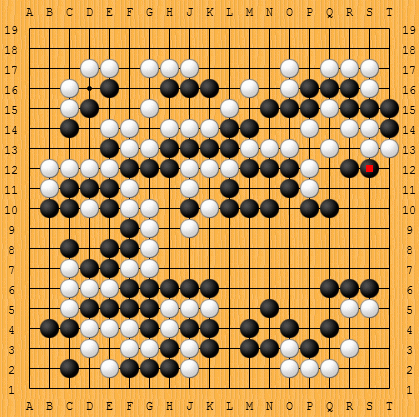black: (277, 317, 299, 339), (358, 157, 380, 179), (58, 317, 80, 339), (58, 177, 80, 199), (58, 197, 80, 219), (198, 277, 220, 299), (58, 237, 80, 259), (78, 177, 100, 199), (218, 197, 240, 219), (198, 337, 220, 359), (218, 177, 240, 199), (58, 357, 80, 379), (78, 297, 100, 319), (238, 117, 260, 139), (118, 157, 140, 179), (198, 77, 220, 99), (277, 97, 299, 119), (198, 317, 220, 339), (38, 197, 60, 219), (198, 137, 220, 159), (38, 317, 60, 339), (118, 277, 140, 299), (158, 157, 180, 179), (158, 137, 180, 159), (98, 237, 120, 259), (338, 277, 360, 299), (78, 257, 100, 279), (98, 297, 120, 319), (158, 77, 180, 99), (358, 277, 380, 299), (318, 277, 340, 299), (298, 197, 320, 219), (318, 317, 340, 339), (318, 197, 340, 219), (218, 137, 240, 159), (377, 117, 399, 139), (298, 337, 320, 359), (177, 317, 199, 339), (78, 97, 100, 119), (178, 197, 200, 219), (138, 356, 160, 378), (338, 97, 360, 119), (158, 357, 180, 379), (158, 337, 180, 359), (298, 77, 320, 99), (377, 97, 399, 119), (158, 277, 180, 299), (278, 157, 300, 179), (178, 137, 200, 159), (138, 277, 160, 299), (138, 297, 160, 319), (358, 97, 380, 119), (218, 117, 240, 139), (138, 156, 160, 178), (118, 357, 140, 379), (58, 117, 80, 139), (118, 297, 140, 319), (98, 177, 120, 199), (137, 317, 159, 339), (118, 237, 140, 259), (118, 217, 140, 239), (258, 97, 280, 119), (98, 257, 120, 279), (338, 156, 360, 178), (238, 156, 260, 178), (258, 197, 280, 219), (258, 297, 280, 319), (98, 77, 120, 99), (258, 157, 280, 179), (98, 137, 120, 159), (178, 77, 200, 99), (258, 337, 280, 359), (278, 177, 300, 199), (238, 197, 260, 219), (178, 277, 200, 299), (318, 77, 340, 99), (237, 317, 259, 339), (238, 337, 260, 359), (337, 77, 359, 99), (298, 97, 320, 119), (98, 197, 120, 219)
white: (59, 258, 77, 276), (59, 278, 77, 296), (59, 298, 77, 316), (359, 138, 377, 156), (199, 298, 217, 316), (79, 338, 97, 356), (79, 198, 97, 216), (319, 138, 337, 156), (159, 298, 177, 316), (79, 278, 97, 296), (199, 198, 217, 216), (79, 318, 97, 336), (359, 58, 377, 76), (239, 78, 257, 96), (199, 118, 217, 136), (139, 58, 157, 76), (279, 138, 297, 156), (199, 158, 217, 176), (39, 178, 57, 196), (239, 138, 257, 156), (319, 58, 337, 76), (119, 118, 137, 136), (119, 178, 137, 196), (279, 58, 297, 76), (59, 158, 77, 176), (319, 98, 337, 116), (159, 58, 177, 76), (159, 118, 177, 136), (119, 138, 137, 156), (299, 178, 317, 196), (39, 158, 57, 176), (79, 158, 97, 176), (179, 338, 197, 356), (179, 358, 197, 376), (179, 298, 197, 316), (79, 58, 97, 76), (99, 278, 117, 296), (179, 218, 197, 236), (139, 218, 157, 236), (179, 178, 197, 196), (339, 58, 357, 76), (339, 298, 357, 316), (279, 78, 297, 96), (339, 118, 357, 136), (299, 118, 317, 136), (379, 138, 397, 156), (139, 198, 157, 216), (159, 318, 177, 336), (299, 158, 317, 176), (139, 258, 157, 276), (219, 98, 237, 116), (99, 358, 117, 376), (359, 78, 377, 96), (139, 238, 157, 256), (119, 338, 137, 356), (119, 318, 137, 336), (119, 258, 137, 276), (139, 338, 157, 356), (119, 198, 137, 216), (219, 158, 237, 176), (259, 138, 277, 156), (139, 138, 157, 156), (99, 58, 117, 76), (99, 318, 117, 336), (99, 118, 117, 136), (179, 58, 197, 76), (319, 358, 337, 376), (179, 118, 197, 136), (139, 98, 157, 116), (279, 358, 297, 376), (279, 338, 297, 356), (339, 338, 357, 356), (359, 298, 377, 316), (359, 118, 377, 136), (99, 158, 117, 176), (59, 98, 77, 116), (299, 358, 317, 376), (59, 78, 77, 96), (179, 158, 197, 176)
